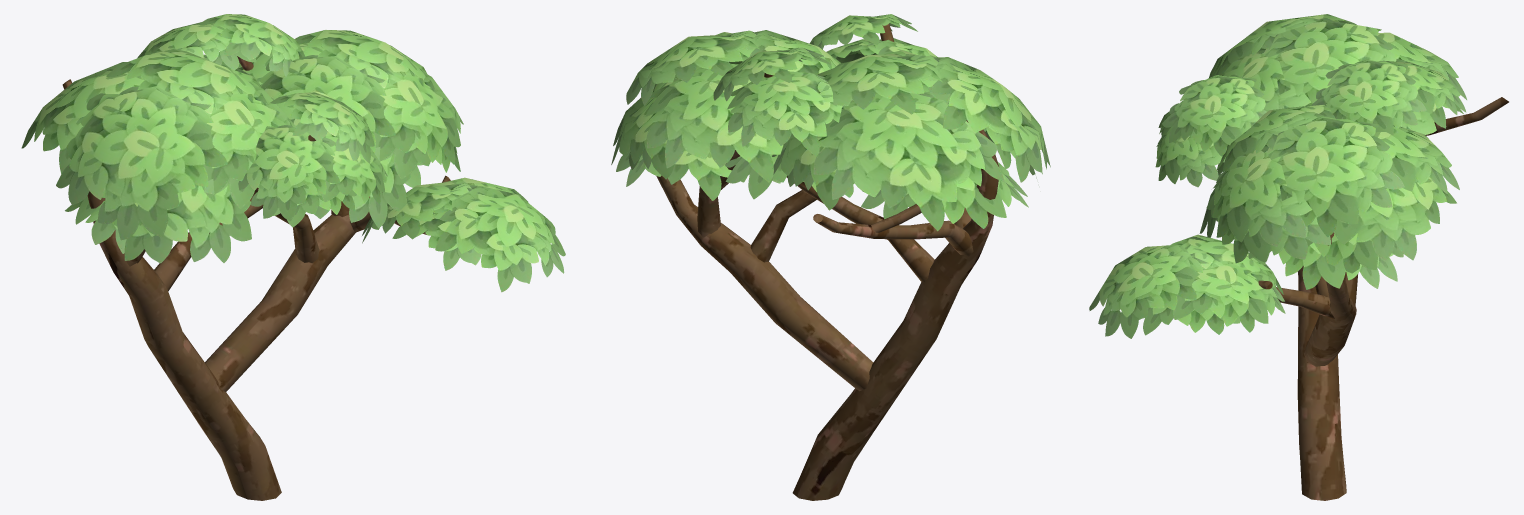
File: tree_3.glb
3 renders of one model, left to right at view 1: azimuth 30°, elevation 25°; view 2: azimuth 150°, elevation 25°; view 3: azimuth 270°, elevation 25°, orthographic. The views are drawn at different scales.
Parts seen in each view (by area): view 1: Tree_3; view 2: Tree_3; view 3: Tree_3.
Boxes of the visible parts, left/top/right/bottom form: Tree_3: left=21, top=14, right=565, bottom=500; Tree_3: left=611, top=14, right=1050, bottom=500; Tree_3: left=1089, top=14, right=1508, bottom=500.
Bounding box in the file's own units: 5.78 × 5.72 × 5.17.
2 materials, 2 textured.
